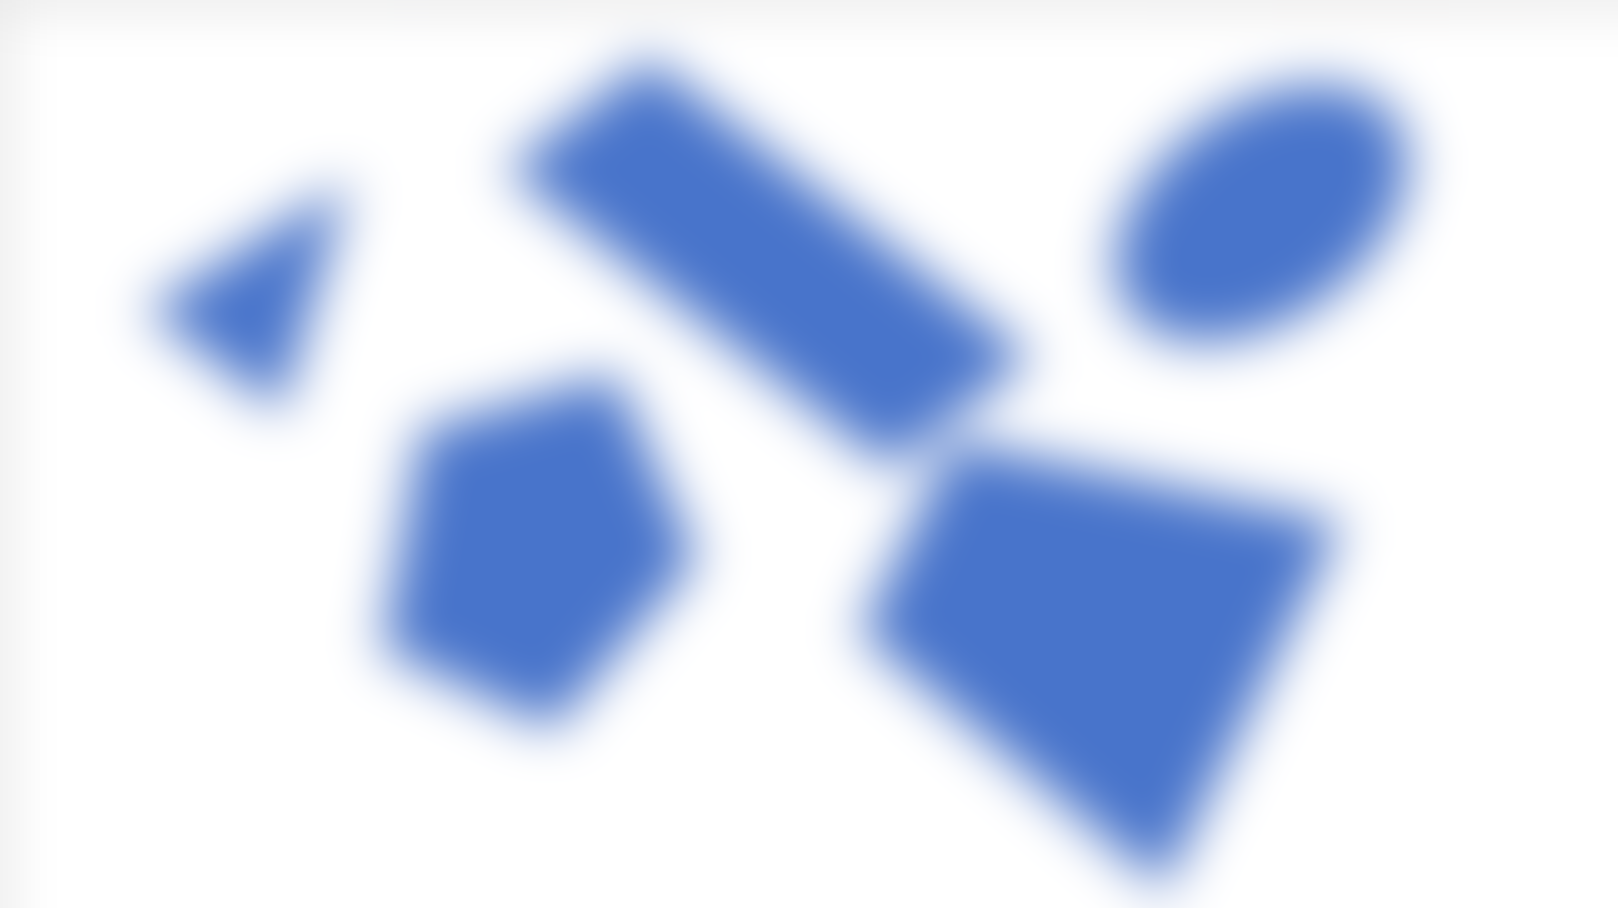circle: (1092, 49, 1418, 355)
parallelogram: (505, 54, 1033, 453)
pentagon: (373, 355, 721, 730)
trapezium: (873, 441, 1346, 879)
triangle: (151, 172, 363, 408)
